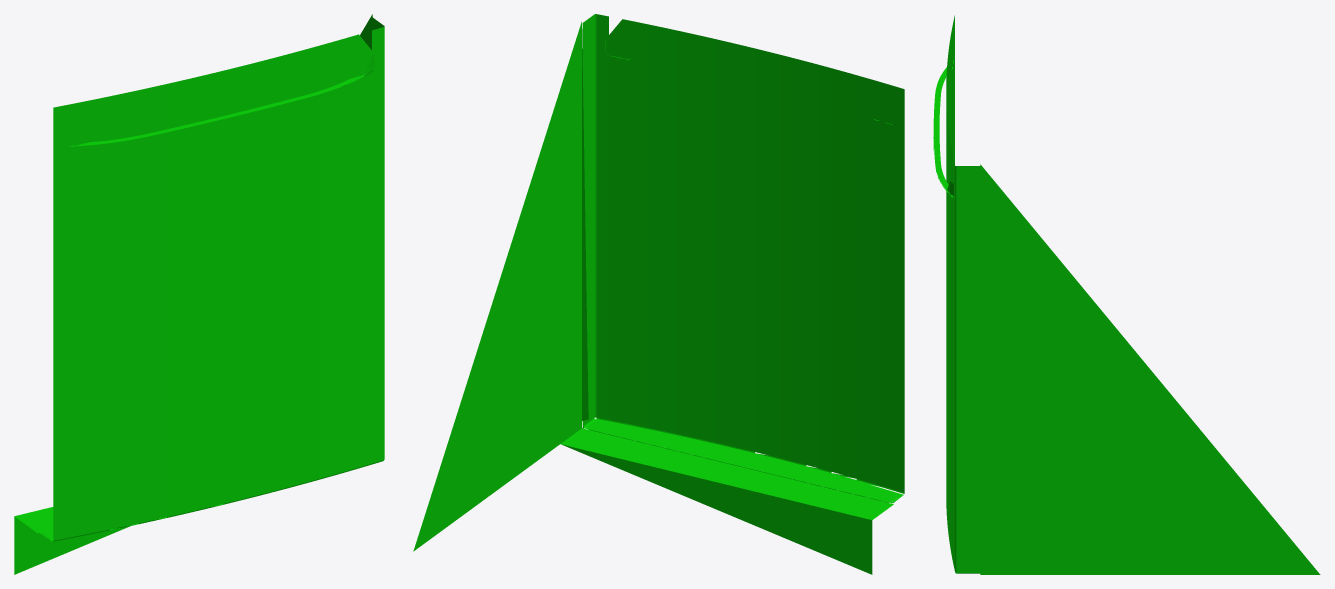
Rendered from pred_area.obj.
3 views of the same model, side by side, from view 1: azimuth 30°, elevation 25°; view 2: azimuth 150°, elevation 25°; view 3: azimuth 270°, elevation 25° (orthographic). The views are drawn at different scales.
Bounding box in the file's own units: 1.05 × 1.48 × 1.12.
